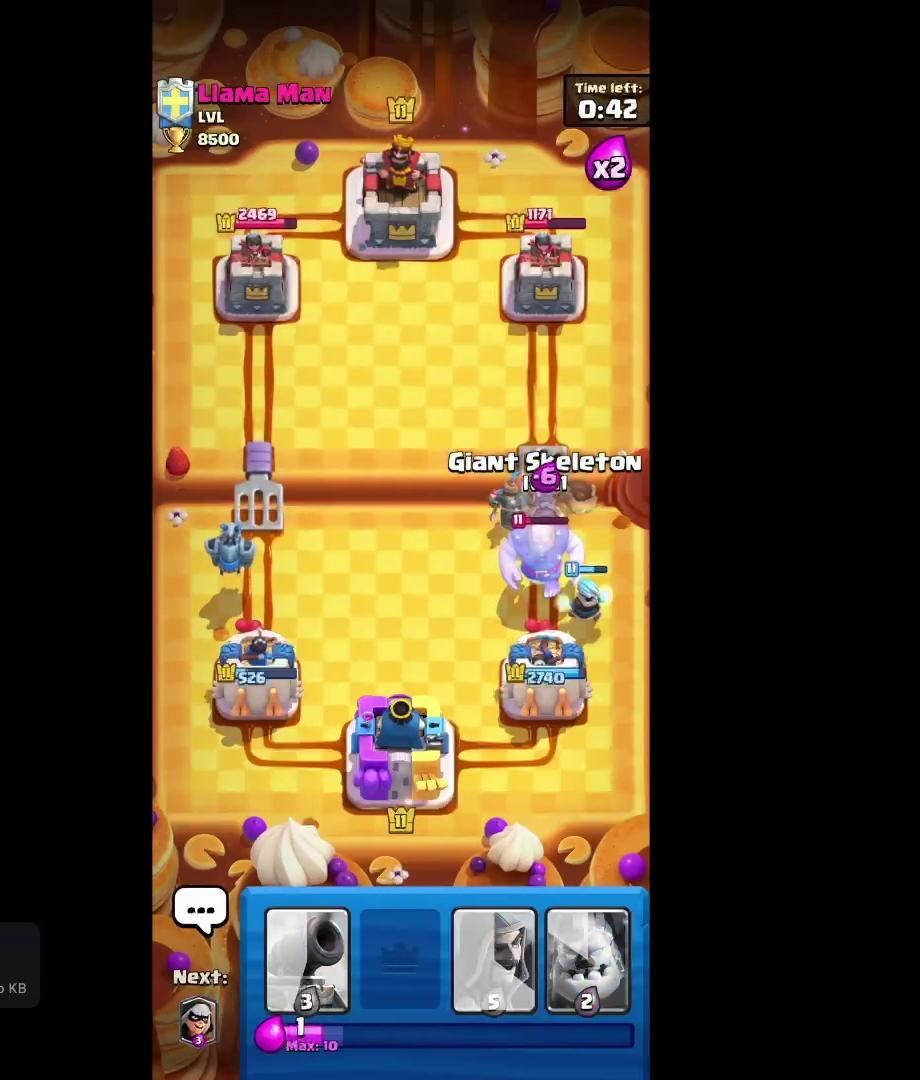Giant: (494, 508, 588, 597)
